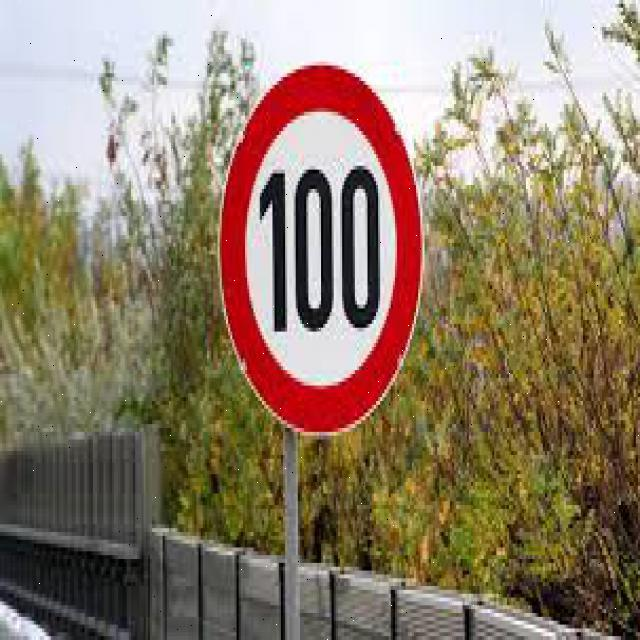speed limit 100: (219, 65, 426, 440)
